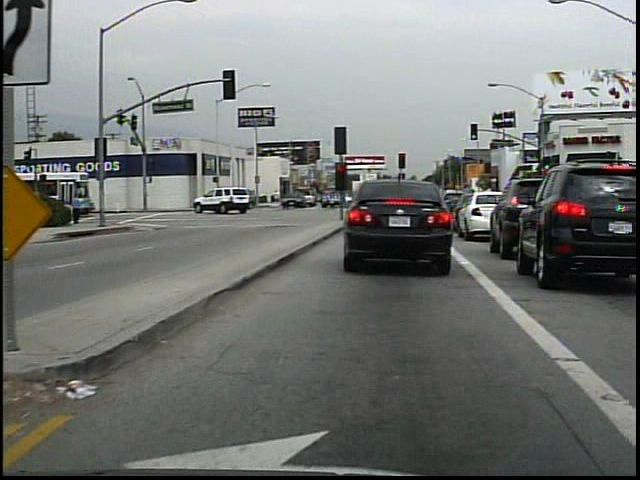person: (69, 190, 90, 227), (272, 187, 283, 209)
